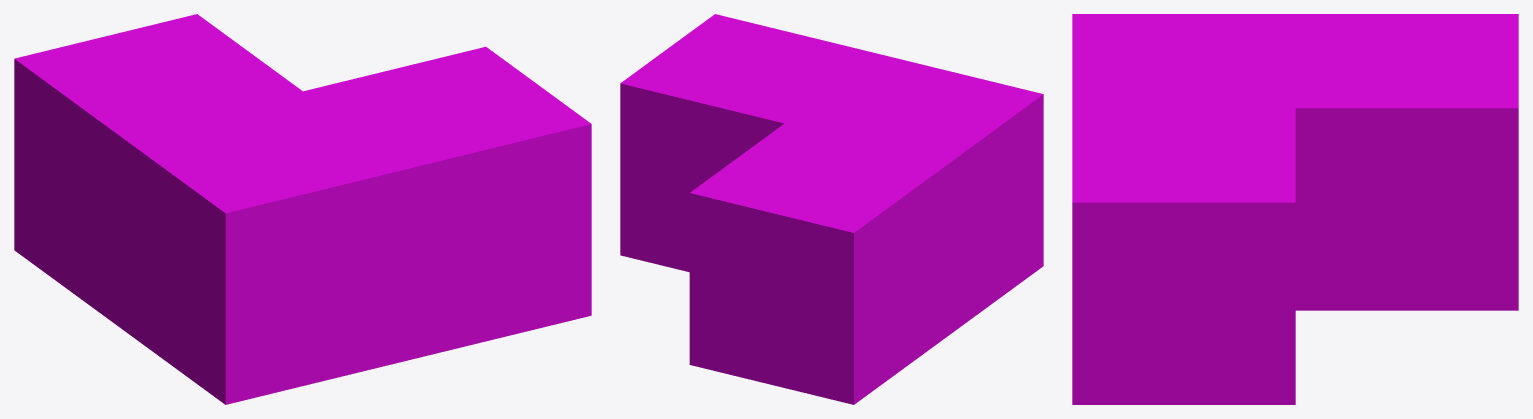
The model's file is SM_Plateform_Corner_200_200 1.fbx.
The picture shows the model from 3 angles, left to right: view 1: azimuth 30°, elevation 25°; view 2: azimuth 150°, elevation 25°; view 3: azimuth 270°, elevation 25°; orthographic projection. The views are drawn at different scales.
Visible parts, largest first — view 1: pCube43; view 2: pCube43; view 3: pCube43.
Part boxes in pixels (box(x1,y1,x2,y2)): pCube43: box(14, 14, 591, 404); pCube43: box(620, 14, 1043, 404); pCube43: box(1072, 14, 1518, 404).
Bounding box in the file's own units: 2 × 1 × 2.
